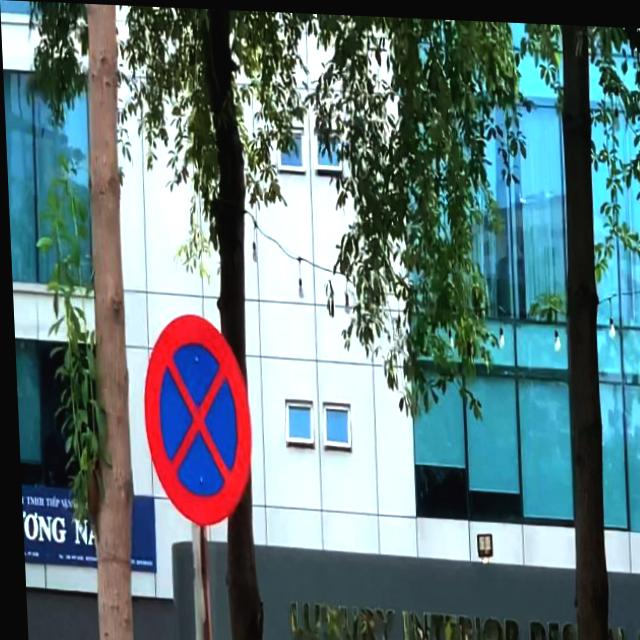Cam dung xe va do xe: (138, 309, 251, 527)
